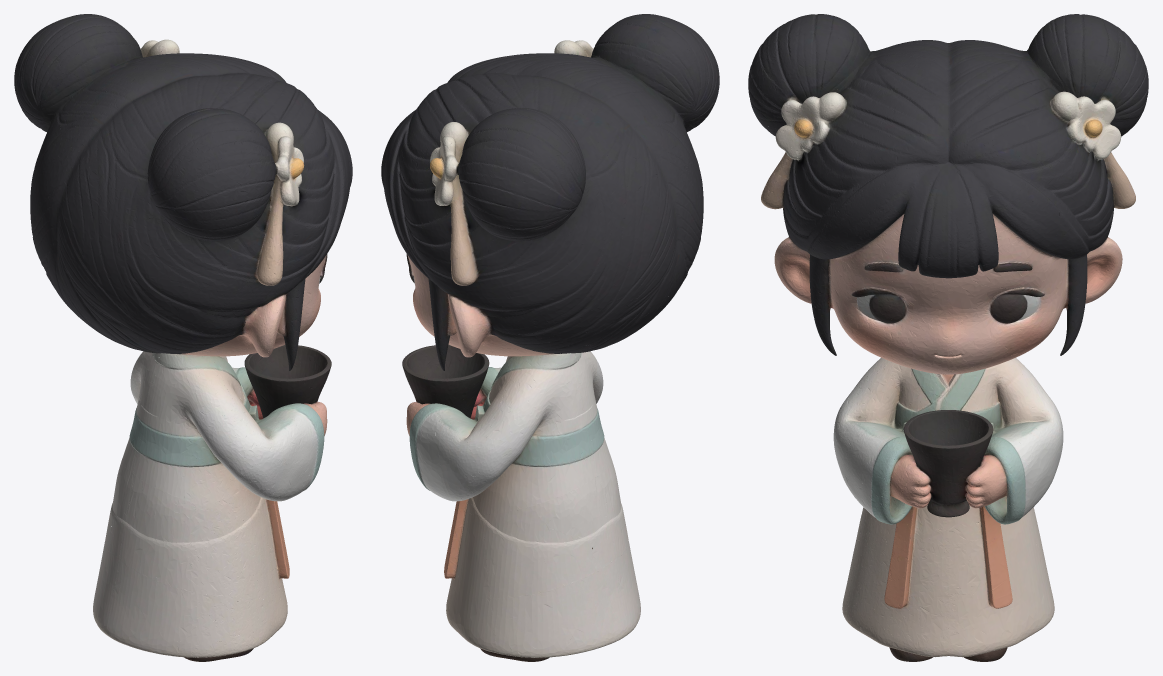
3 views of the same model, side by side, from view 1: azimuth 30°, elevation 25°; view 2: azimuth 150°, elevation 25°; view 3: azimuth 270°, elevation 25° (orthographic). The views are drawn at different scales.
Visible parts, largest first — view 1: tripo_node_4c76380f-522d-4974-ad2c-905043085f3a; view 2: tripo_node_4c76380f-522d-4974-ad2c-905043085f3a; view 3: tripo_node_4c76380f-522d-4974-ad2c-905043085f3a.
Boxes of the visible parts, x1=… form: tripo_node_4c76380f-522d-4974-ad2c-905043085f3a: x1=14, y1=14, x2=352, y2=661; tripo_node_4c76380f-522d-4974-ad2c-905043085f3a: x1=381, y1=14, x2=719, y2=661; tripo_node_4c76380f-522d-4974-ad2c-905043085f3a: x1=748, y1=14, x2=1148, y2=661.
Bounding box in the file's own units: 0.5104 × 1 × 0.6048.
1 material, 1 textured.
